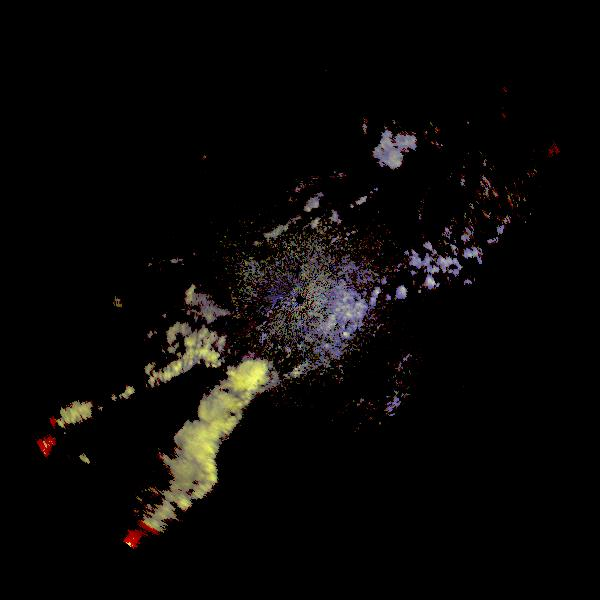roost: (197, 223, 455, 481)
